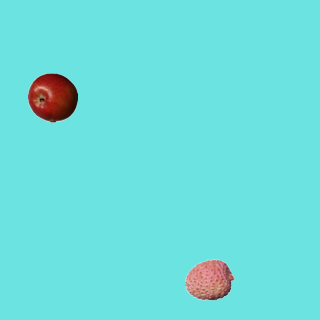Apple Braeburn: (27, 72, 77, 122)
Lychee: (184, 254, 234, 304)
